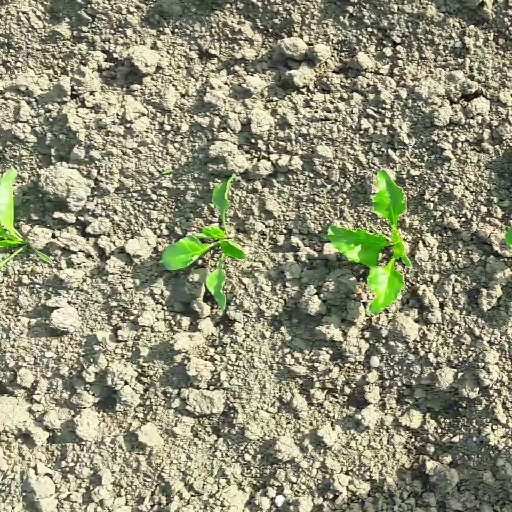sugarbeet: (328, 166, 417, 314), (159, 175, 249, 310), (1, 168, 57, 273)
